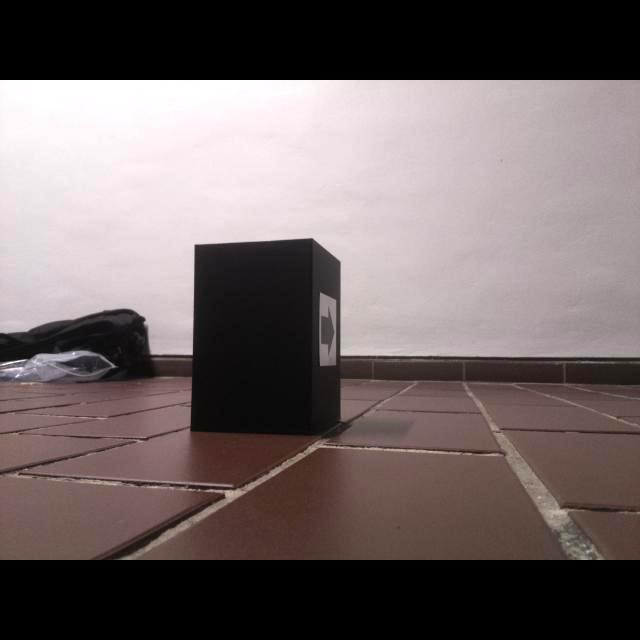RIGHT: (321, 307, 335, 357)
